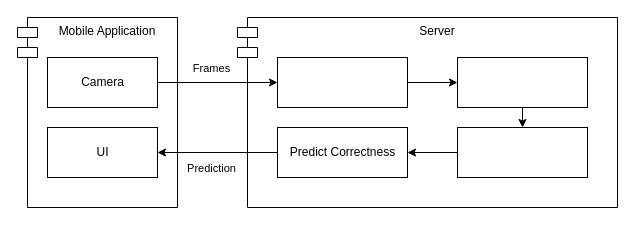
Some shapes in this 635 by 225 pixel diagram are drawn without their labels. The centre of each missing label's shape, as x and y in pixels:
Calculate Angles: the point at 522,152
Human Pose Estimation: the point at 342,82
Segement Repetition: the point at 522,82
